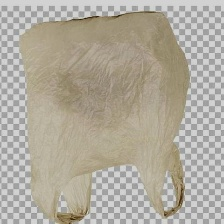plastic_bag: (16, 10, 195, 224)
